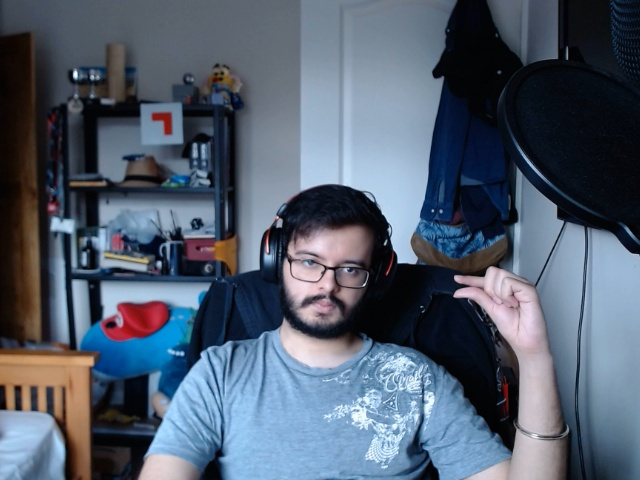Small: (448, 258, 559, 366)
